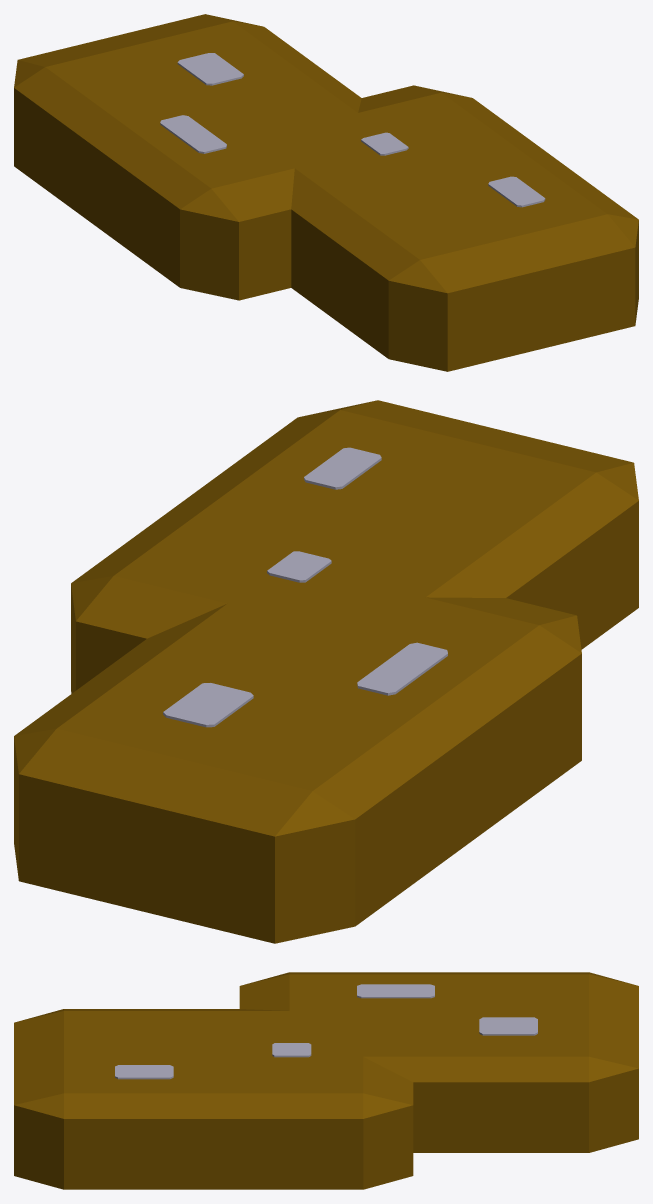
File: Route_terre.fbx
The picture shows the model from 3 angles, top to bottom: view 1: azimuth 30°, elevation 25°; view 2: azimuth 150°, elevation 25°; view 3: azimuth 270°, elevation 25°; orthographic projection. The views are drawn at different scales.
Visible parts, largest first — view 1: block_rounded_39, block_rounded_38, floor_half_44, floor_half_45, floor_half_42, floor_half_43; view 2: block_rounded_38, block_rounded_39, floor_half_44, floor_half_45, floor_half_42, floor_half_43; view 3: block_rounded_39, block_rounded_38, floor_half_44, floor_half_45, floor_half_42, floor_half_43.
Boxes of the visible parts, left/top/right/bottom form: block_rounded_39: left=255, top=85, right=638, bottom=371; block_rounded_38: left=14, top=14, right=382, bottom=300; floor_half_44: left=160, top=115, right=226, bottom=153; floor_half_45: left=177, top=53, right=243, bottom=85; floor_half_42: left=488, top=176, right=545, bottom=207; floor_half_43: left=361, top=132, right=408, bottom=155; block_rounded_38: left=14, top=597, right=581, bottom=943; block_rounded_39: left=71, top=400, right=638, bottom=693; floor_half_44: left=357, top=642, right=447, bottom=695; floor_half_45: left=163, top=683, right=253, bottom=727; floor_half_42: left=304, top=447, right=381, bottom=489; floor_half_43: left=267, top=551, right=331, bottom=582; block_rounded_39: left=14, top=1009, right=413, bottom=1189; block_rounded_38: left=239, top=972, right=638, bottom=1152; floor_half_44: left=357, top=984, right=434, bottom=998; floor_half_45: left=479, top=1017, right=537, bottom=1035; floor_half_42: left=115, top=1065, right=173, bottom=1079; floor_half_43: left=272, top=1043, right=311, bottom=1057.
Size of the model in its own units: 20 by 6.1 by 36.
